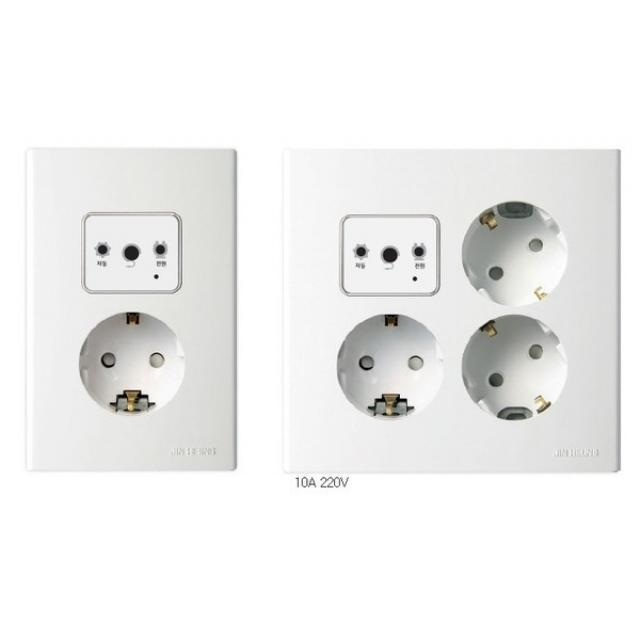typeb: (276, 133, 628, 494), (12, 134, 254, 502)
